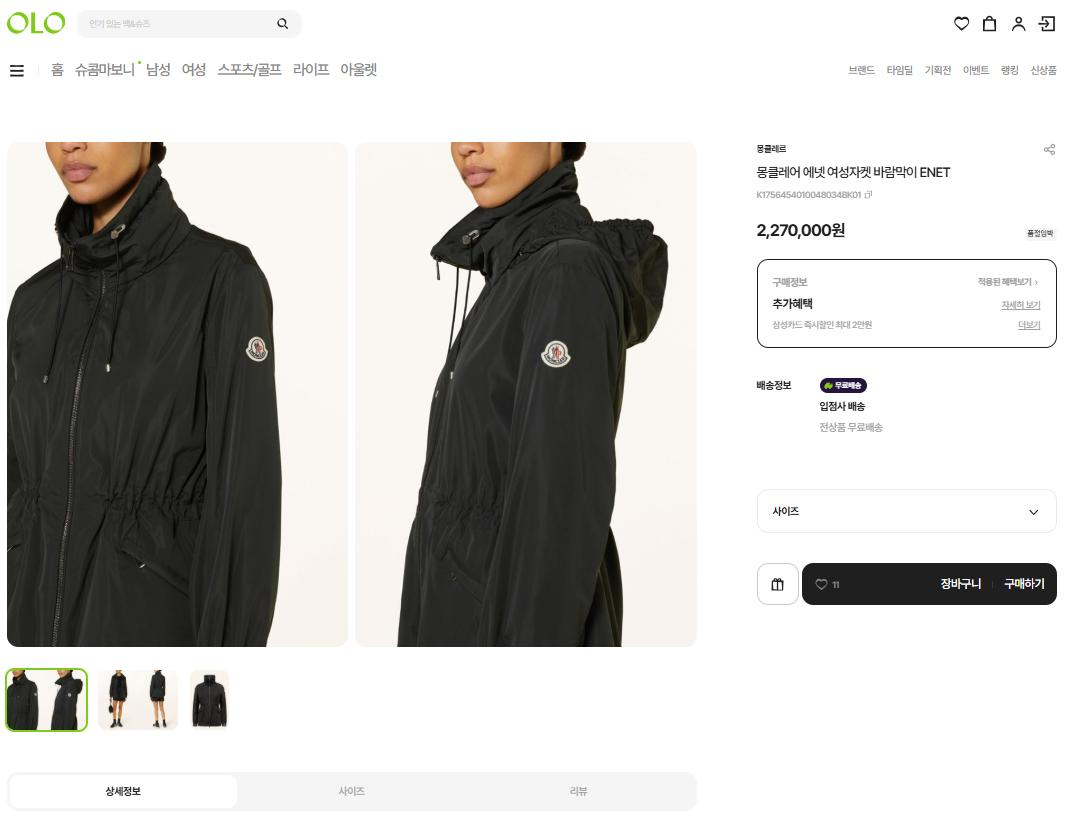button: (477, 773, 692, 809), (12, 777, 230, 810), (238, 776, 440, 807), (7, 667, 87, 731), (106, 667, 181, 732), (192, 670, 231, 726), (756, 564, 800, 601), (78, 49, 128, 78), (211, 63, 290, 80), (932, 574, 983, 592), (288, 57, 328, 78), (1001, 576, 1050, 590), (951, 11, 976, 36), (336, 63, 382, 76), (43, 52, 66, 77), (846, 63, 877, 81), (146, 60, 170, 83), (981, 12, 1003, 37), (179, 62, 206, 81), (1041, 142, 1064, 163), (1007, 18, 1028, 39), (1034, 63, 1059, 78), (928, 63, 952, 78), (888, 68, 916, 79), (967, 63, 987, 77), (820, 577, 842, 588), (1044, 13, 1058, 28), (1002, 66, 1019, 76)
input_field: (76, 8, 299, 36)
